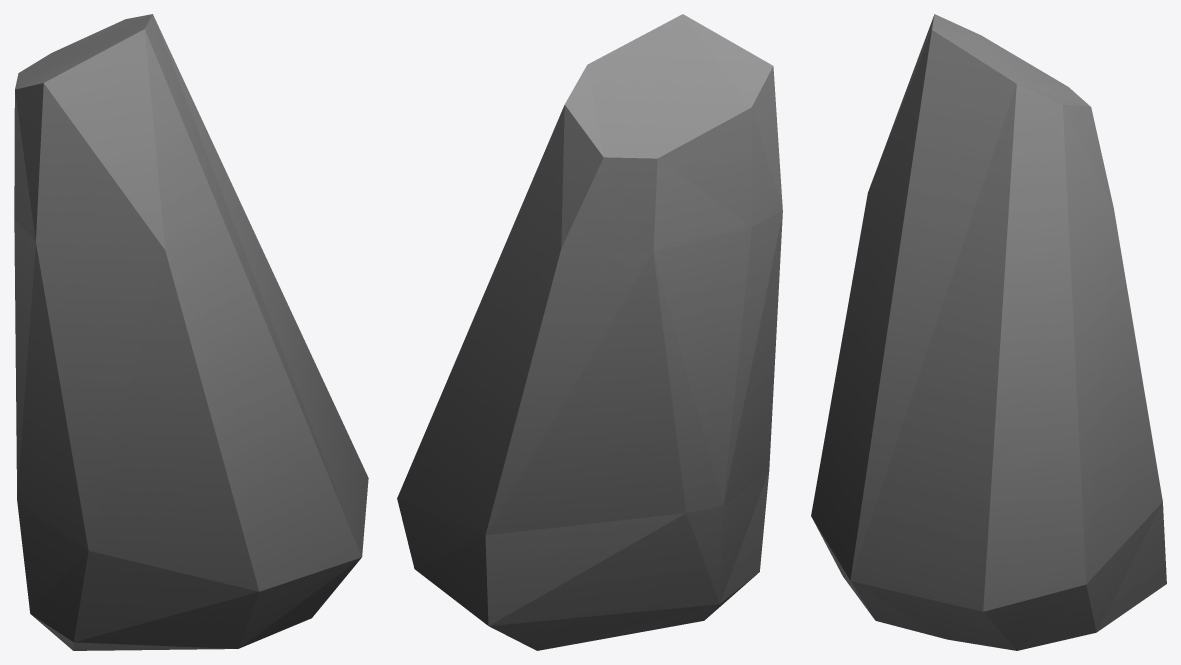
Rendered from Jungle_Rock_Pointy_A.fbx.
3 renders of one model, left to right at view 1: azimuth 30°, elevation 25°; view 2: azimuth 150°, elevation 25°; view 3: azimuth 270°, elevation 25°, orthographic. The views are drawn at different scales.
Visible parts, largest first — view 1: Jungle_Rock_Pointy_A; view 2: Jungle_Rock_Pointy_A; view 3: Jungle_Rock_Pointy_A.
Boxes of the visible parts, x1,y1,x2,y2 form: Jungle_Rock_Pointy_A: (14, 14, 368, 650); Jungle_Rock_Pointy_A: (397, 14, 782, 650); Jungle_Rock_Pointy_A: (811, 14, 1166, 650).
Size of the model in its own units: 1.57 by 2.61 by 1.51.
Materials: 1 (1 with a texture image).
